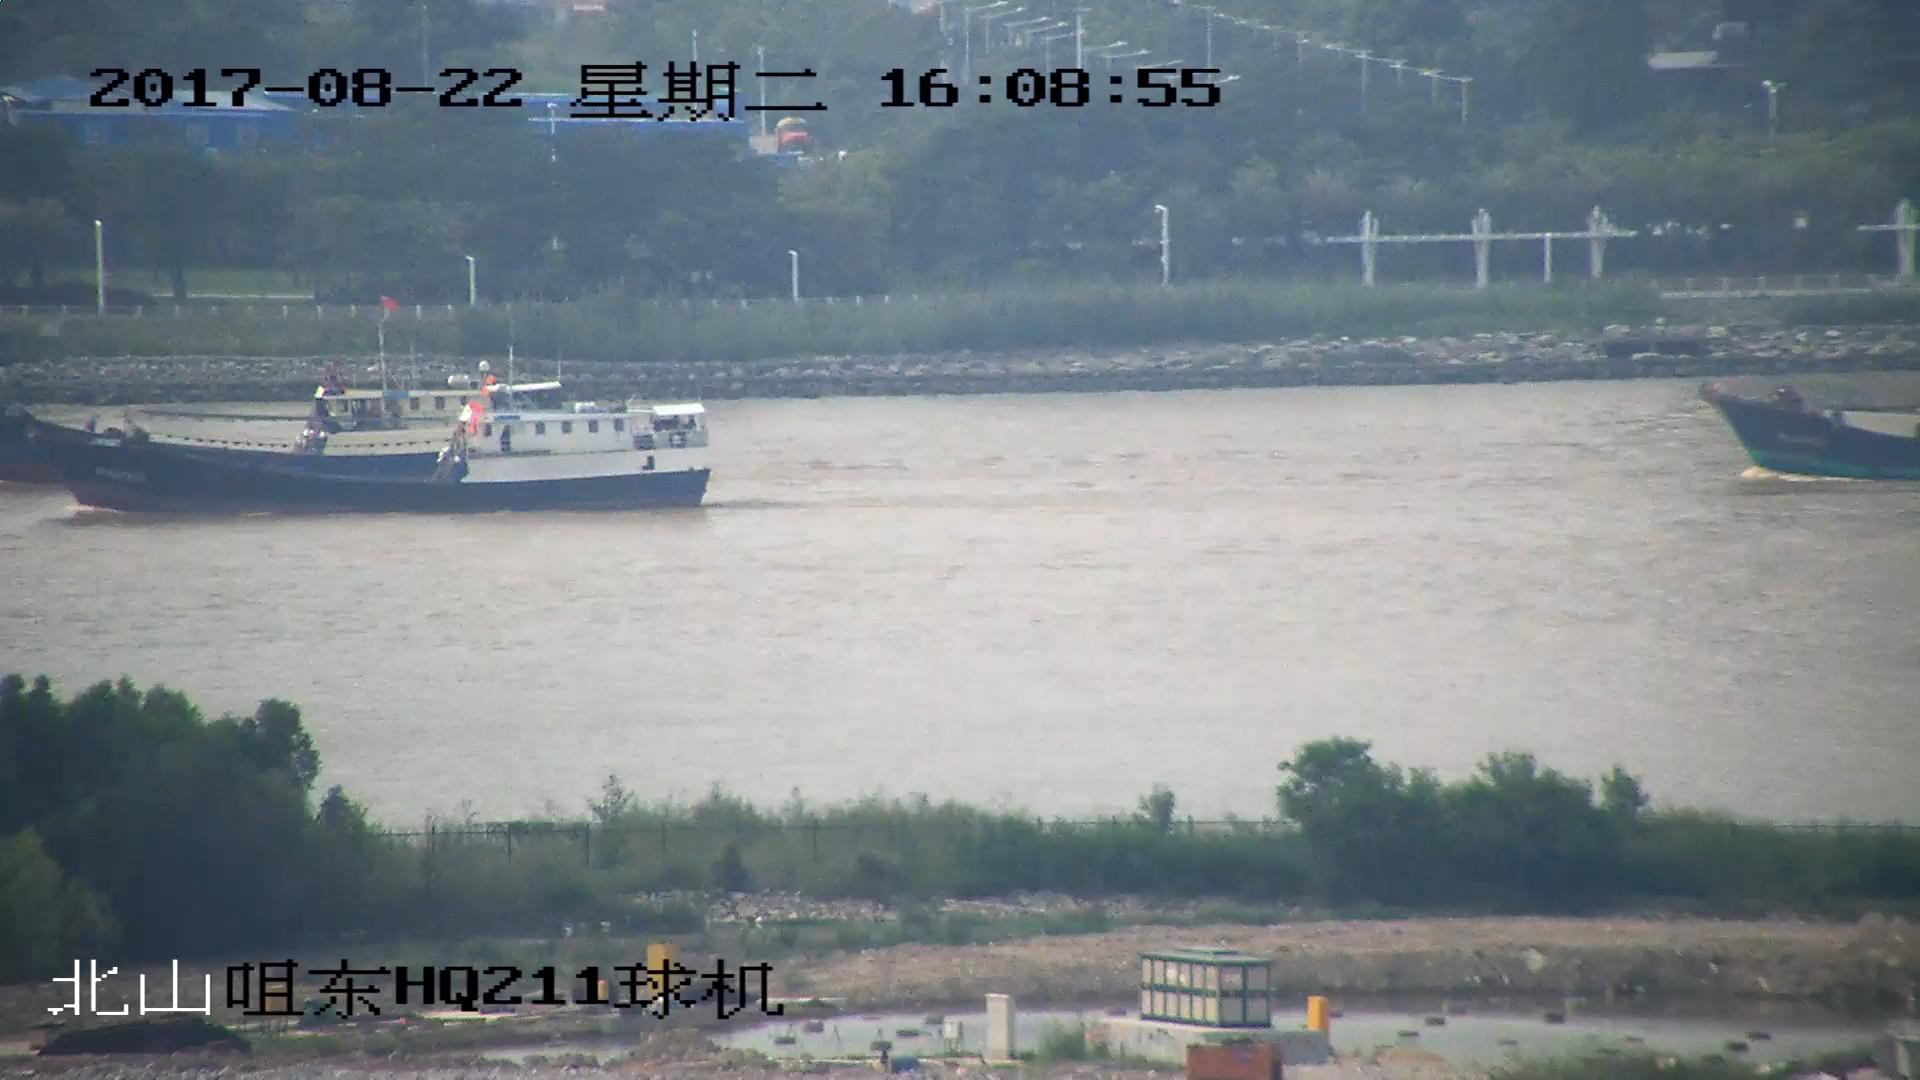fishing boat: (1, 298, 514, 488), (48, 384, 716, 520), (1704, 380, 1920, 481)
